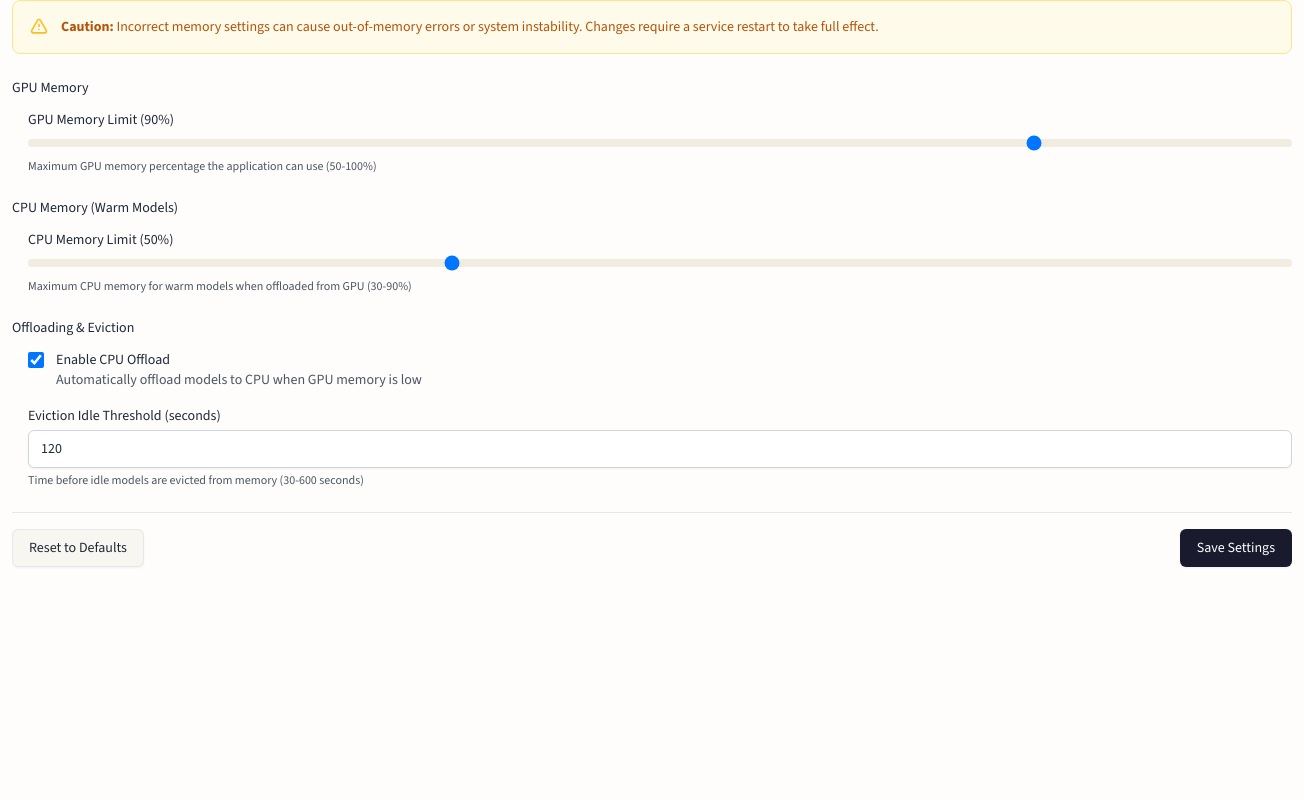
Test case: GpuMemorySettings › form interactions › updates eviction threshold input
The width and height of the screenshot is (1304, 800).
Click the number field. click: [660, 449]
box: [28,430,1292,468]
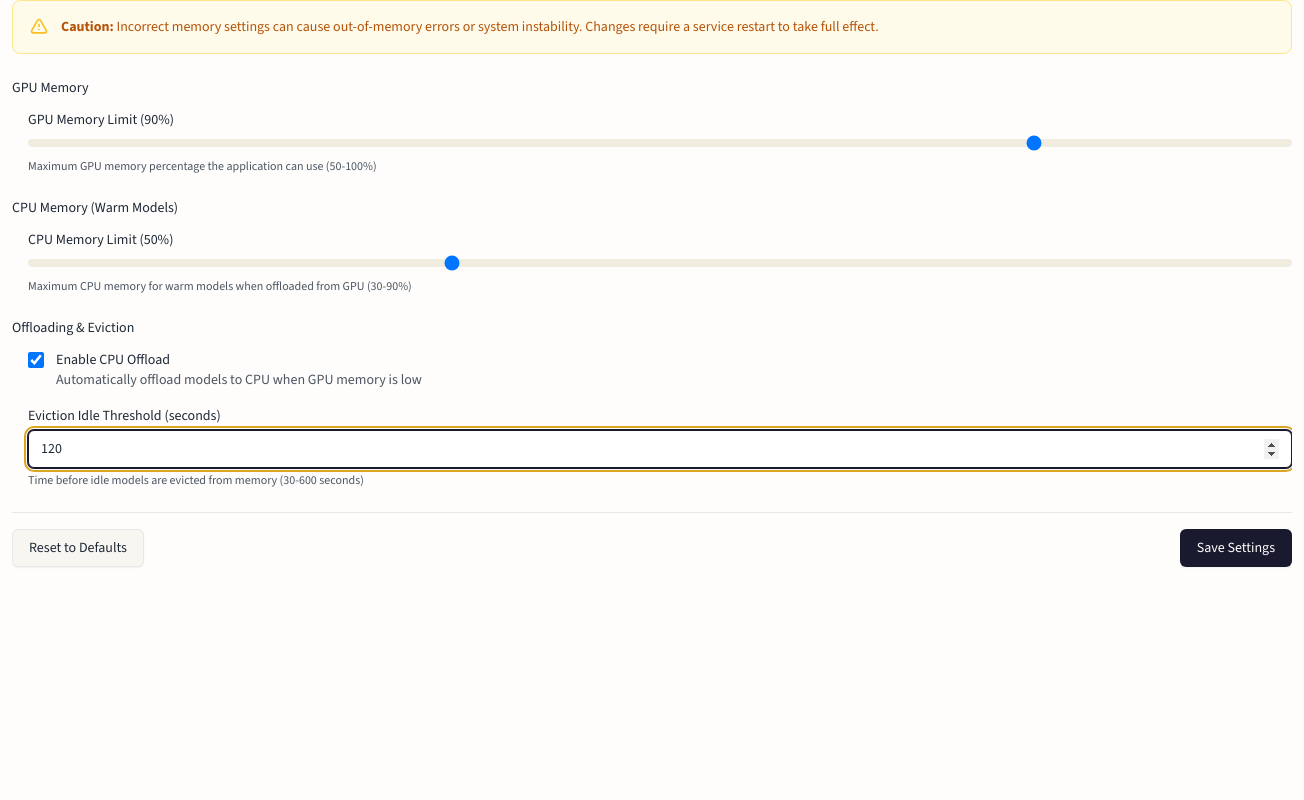
Type keys "180"
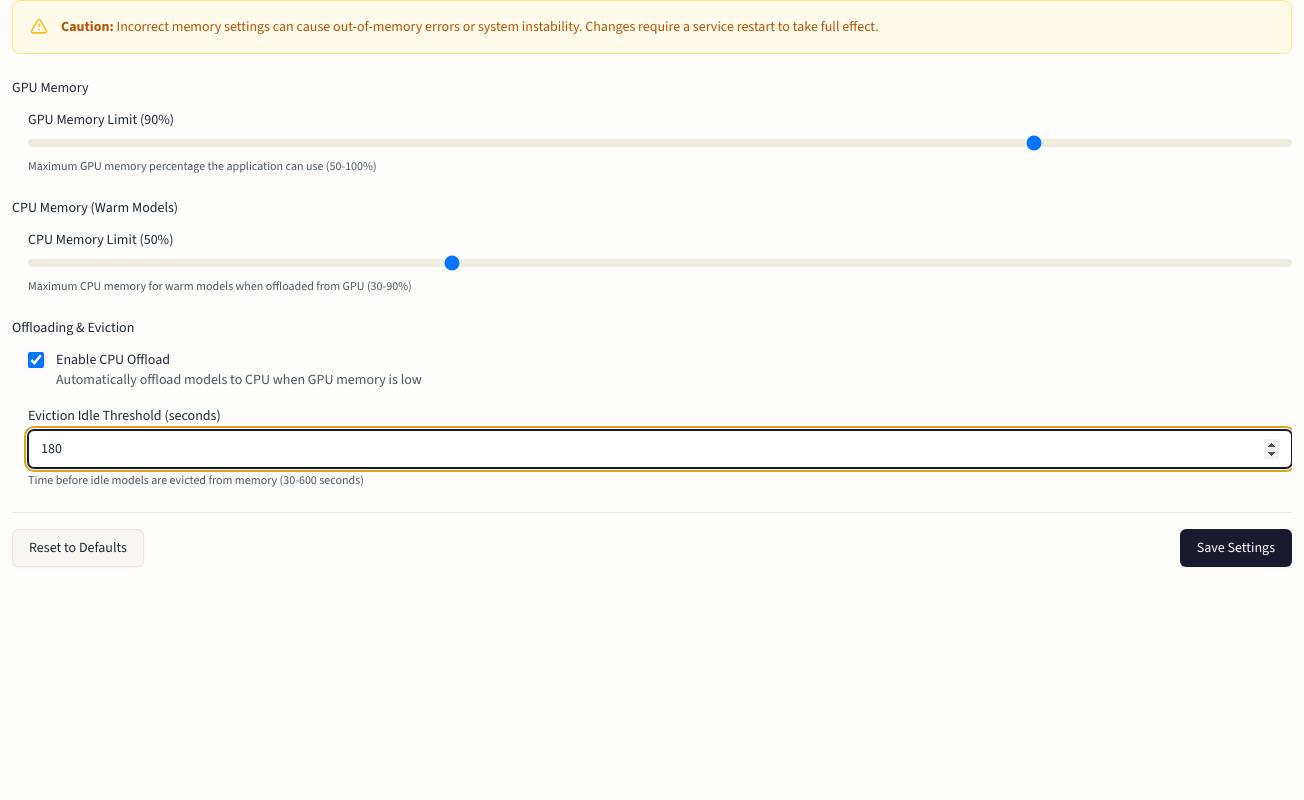
Expected: the number field holds "180", [28,430,1292,468]
